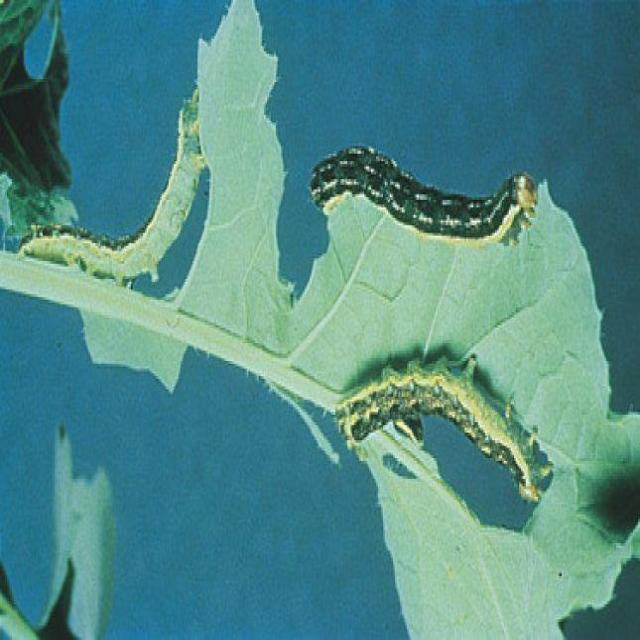army worm: (19, 87, 213, 282), (330, 343, 555, 509), (308, 144, 538, 238)
